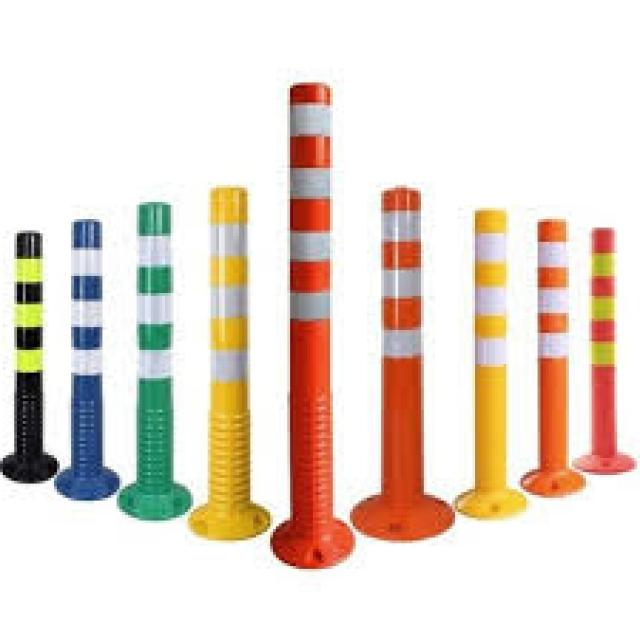bollard: (272, 64, 357, 588), (348, 183, 454, 548), (110, 184, 199, 527), (188, 178, 264, 546), (41, 205, 131, 511), (449, 199, 528, 529), (517, 213, 589, 503), (569, 210, 637, 478), (8, 220, 59, 499)
